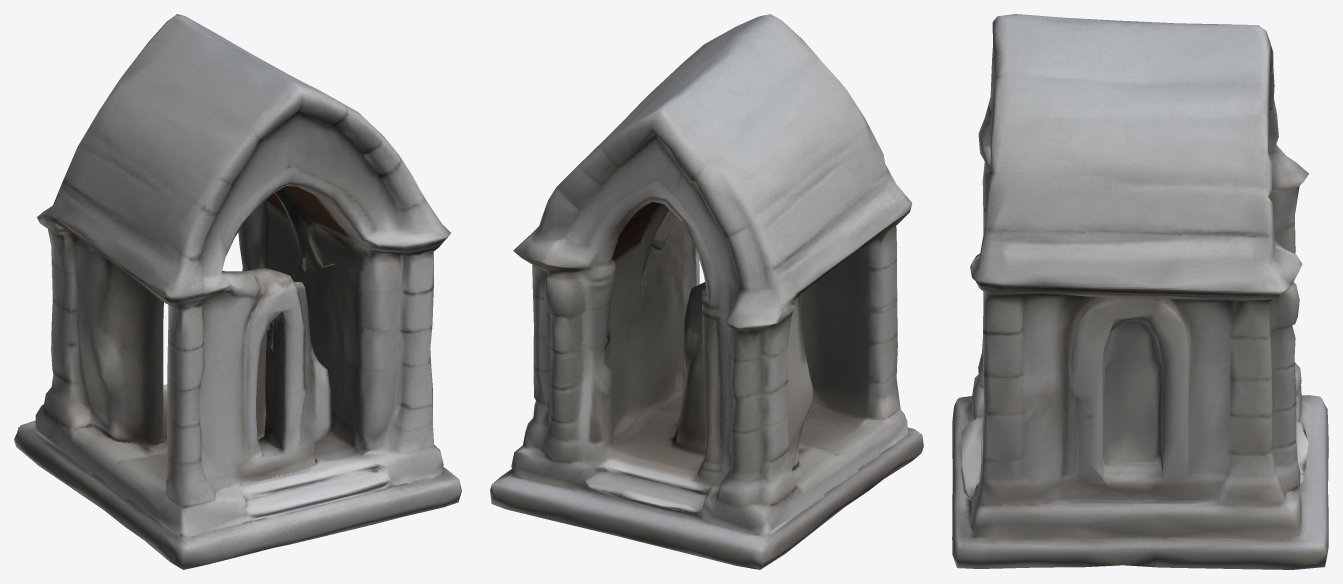
Rendered from crypt.glb.
3 views of the same model, side by side, from view 1: azimuth 30°, elevation 25°; view 2: azimuth 150°, elevation 25°; view 3: azimuth 270°, elevation 25° (orthographic). The views are drawn at different scales.
Parts seen in each view (by area): view 1: geometry_0; view 2: geometry_0; view 3: geometry_0.
Part boxes in pixels (x1,y1,x2,y2): geometry_0: [14, 14, 461, 569]; geometry_0: [490, 14, 923, 569]; geometry_0: [952, 14, 1328, 569].
Bounding box in the file's own units: 0.6815 × 1 × 0.7124.
1 material, 1 textured.
